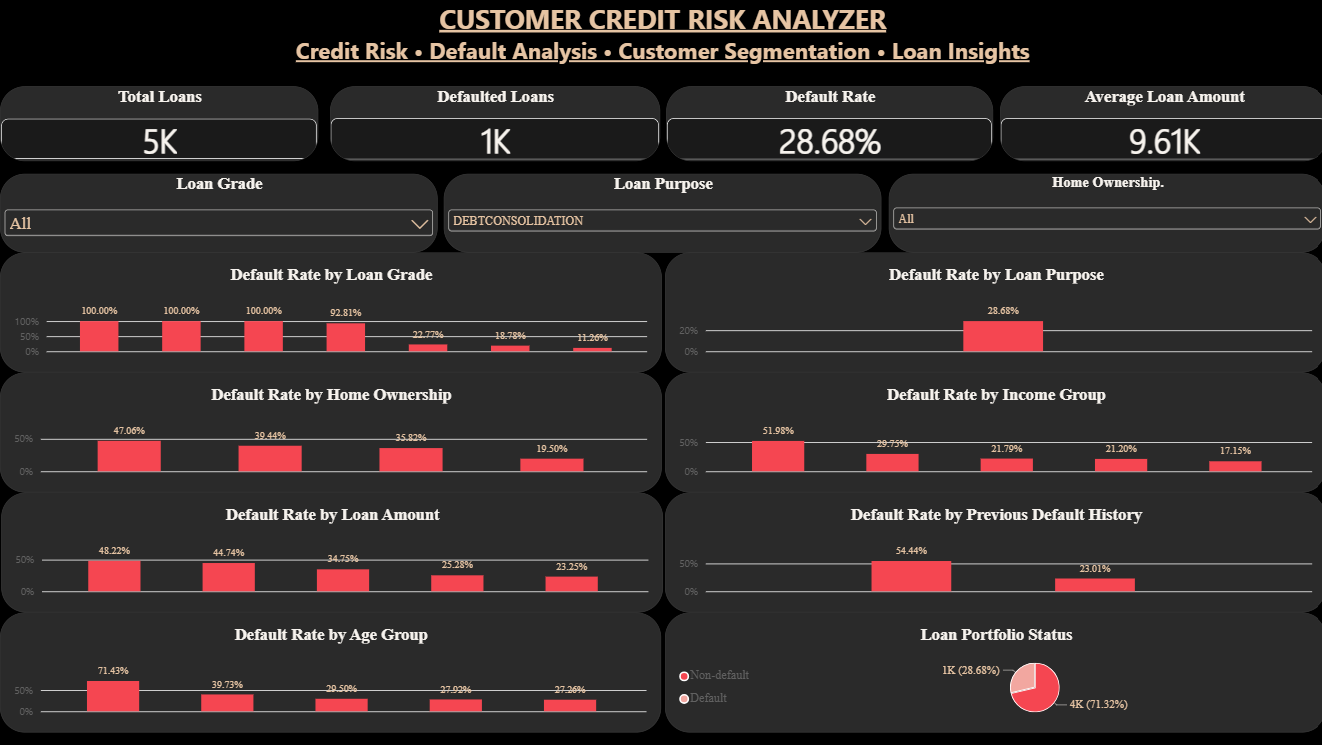

The page's visual inventory and layout, read from the dashboard file:
{"tool":"powerbi","page":{"name":"Page 1","canvas":[1600,900],"ordinal":0},"visuals":[{"type":"textbox","box":[2,0,1596,82],"z":0},{"type":"textbox","box":[2,42,1596,108],"z":1000},{"type":"cardVisual","title":"Total Loans","fields":{"Data":["credit_risk_cleaned.Total Loans"]},"box":[0,104,384,90],"z":2000},{"type":"cardVisual","title":"Default Rate","fields":{"Data":["credit_risk_cleaned.Default Rate"]},"box":[804,104,394,90],"z":3000},{"type":"cardVisual","title":"Defaulted Loans","fields":{"Data":["credit_risk_cleaned.Defaulted Loans"]},"box":[398,104,398,90],"z":4000},{"type":"cardVisual","title":"Average Loan Amount","fields":{"Data":["credit_risk_cleaned.Average Loan Amount"]},"box":[1206,104,396,90],"z":5000},{"type":"clusteredColumnChart","title":"Default Rate by Loan Grade","fields":{"Category":["credit_risk_cleaned.loan_grade"],"Y":["credit_risk_cleaned.Default Rate"]},"box":[0,304.6,798,145],"z":6000},{"type":"clusteredColumnChart","title":"Default Rate by Loan Purpose","fields":{"Category":["credit_risk_cleaned.loan_intent"],"Y":["credit_risk_cleaned.Default Rate"]},"box":[802.3,304.6,798,145],"z":7000},{"type":"clusteredColumnChart","title":"Default Rate by Home Ownership","fields":{"Category":["credit_risk_cleaned.person_home_ownership"],"Y":["credit_risk_cleaned.Default Rate"]},"box":[0,449.4,798,145],"z":8000},{"type":"clusteredColumnChart","title":"Default Rate by Income Group","fields":{"Category":["credit_risk_cleaned.income_group"],"Y":["credit_risk_cleaned.Default Rate"]},"box":[802.3,449.4,798,145],"z":9000},{"type":"clusteredColumnChart","title":"Default Rate by Loan Amount","fields":{"Category":["credit_risk_cleaned.loan_amount_group"],"Y":["credit_risk_cleaned.Default Rate"]},"box":[1.5,594.2,798,145],"z":10000},{"type":"clusteredColumnChart","title":"Default Rate by Previous Default History","fields":{"Category":["credit_risk_cleaned.cb_person_default_on_file"],"Y":["credit_risk_cleaned.Default Rate"]},"box":[802.3,594.2,798,145],"z":11000},{"type":"clusteredColumnChart","title":"Default Rate by Age Group","fields":{"Category":["credit_risk_cleaned.age_group"],"Y":["credit_risk_cleaned.Default Rate"]},"box":[0,738.9,797.5,145],"z":12000},{"type":"donutChart","title":"Loan Portfolio Status","fields":{"Y":["credit_risk_cleaned.Total Loans"],"Category":["credit_risk_cleaned.Loan Status Label"]},"box":[802.3,738.9,798,145],"z":13000},{"type":"slicer","title":"Loan Grade","fields":{"Values":["credit_risk_cleaned.loan_grade"]},"box":[0,209.6,527.8,95],"z":14000},{"type":"slicer","title":"Loan Purpose","fields":{"Values":["credit_risk_cleaned.loan_intent"]},"box":[535.4,209.6,527.8,95],"z":15000},{"type":"slicer","title":"Home Ownership.","fields":{"Values":["credit_risk_cleaned.person_home_ownership"]},"box":[1072.2,209.6,527.8,95],"z":16000}]}

Visuals, with their boxes in screenshot pixels (x1, y1, x2, y2), scaled from the page's 1600x900 canvas onto the 1322x745 screenshot:
textbox: x1=2 y1=0 x2=1320 y2=68
textbox: x1=2 y1=35 x2=1320 y2=124
"Total Loans" cardVisual: x1=0 y1=86 x2=317 y2=161
"Default Rate" cardVisual: x1=664 y1=86 x2=990 y2=161
"Defaulted Loans" cardVisual: x1=329 y1=86 x2=658 y2=161
"Average Loan Amount" cardVisual: x1=996 y1=86 x2=1321 y2=161
"Default Rate by Loan Grade" clusteredColumnChart: x1=0 y1=252 x2=659 y2=372
"Default Rate by Loan Purpose" clusteredColumnChart: x1=663 y1=252 x2=1321 y2=372
"Default Rate by Home Ownership" clusteredColumnChart: x1=0 y1=372 x2=659 y2=492
"Default Rate by Income Group" clusteredColumnChart: x1=663 y1=372 x2=1321 y2=492
"Default Rate by Loan Amount" clusteredColumnChart: x1=1 y1=492 x2=661 y2=612
"Default Rate by Previous Default History" clusteredColumnChart: x1=663 y1=492 x2=1321 y2=612
"Default Rate by Age Group" clusteredColumnChart: x1=0 y1=612 x2=659 y2=732
"Loan Portfolio Status" donutChart: x1=663 y1=612 x2=1321 y2=732
"Loan Grade" slicer: x1=0 y1=174 x2=436 y2=252
"Loan Purpose" slicer: x1=442 y1=174 x2=878 y2=252
"Home Ownership." slicer: x1=886 y1=174 x2=1321 y2=252
